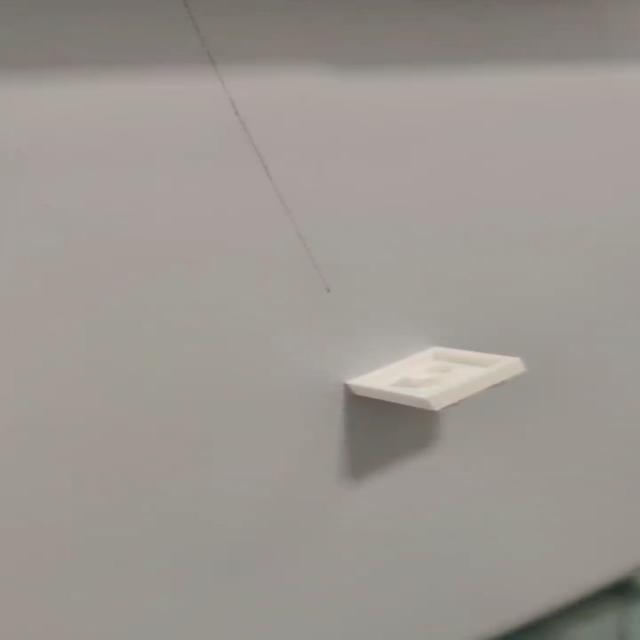C2x2x0: (349, 343, 536, 417)
